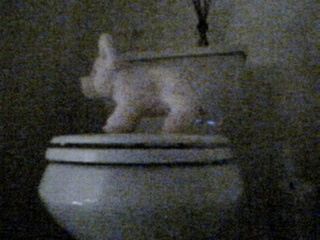piggy: (78, 31, 203, 134)
